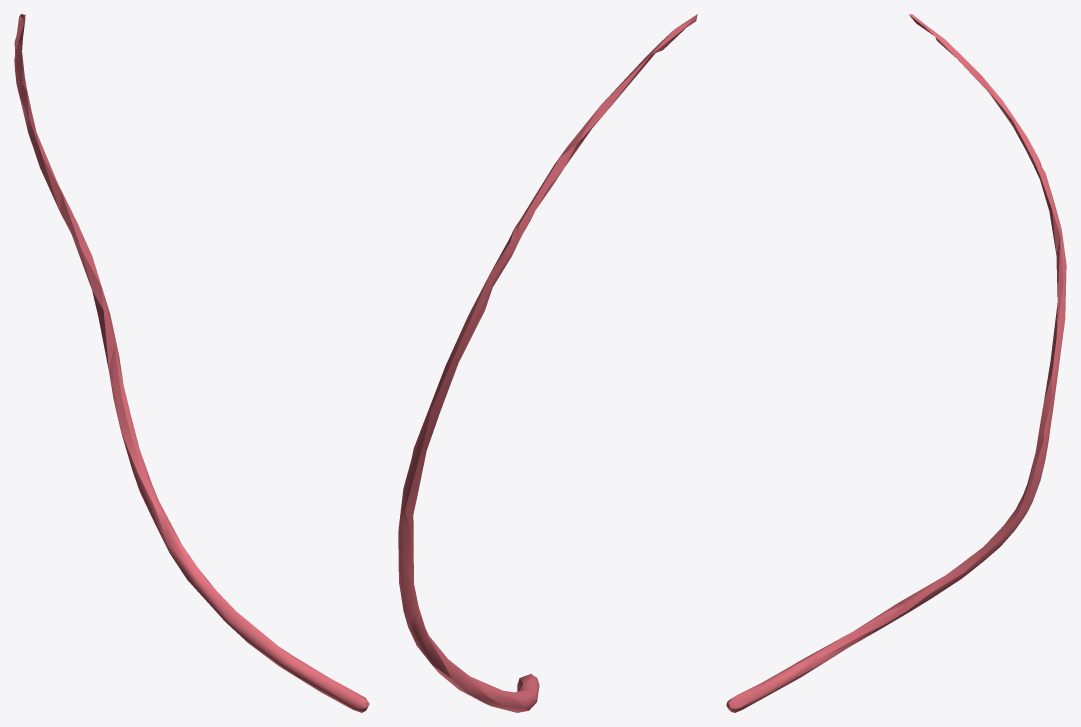
The model's file is fma50147_fj1674m.glb.
The picture shows the model from 3 angles, left to right: view 1: azimuth 30°, elevation 25°; view 2: azimuth 150°, elevation 25°; view 3: azimuth 270°, elevation 25°; orthographic projection. The views are drawn at different scales.
Parts seen in each view (by area): view 1: FMA50147_FJ1674M; view 2: FMA50147_FJ1674M; view 3: FMA50147_FJ1674M.
Boxes of the visible parts, bbox=[...] form: FMA50147_FJ1674M: bbox=[14, 14, 369, 712]; FMA50147_FJ1674M: bbox=[398, 14, 697, 712]; FMA50147_FJ1674M: bbox=[726, 14, 1066, 712].
Bounding box in the file's own units: 0.0121 × 0.0319 × 0.0165.
